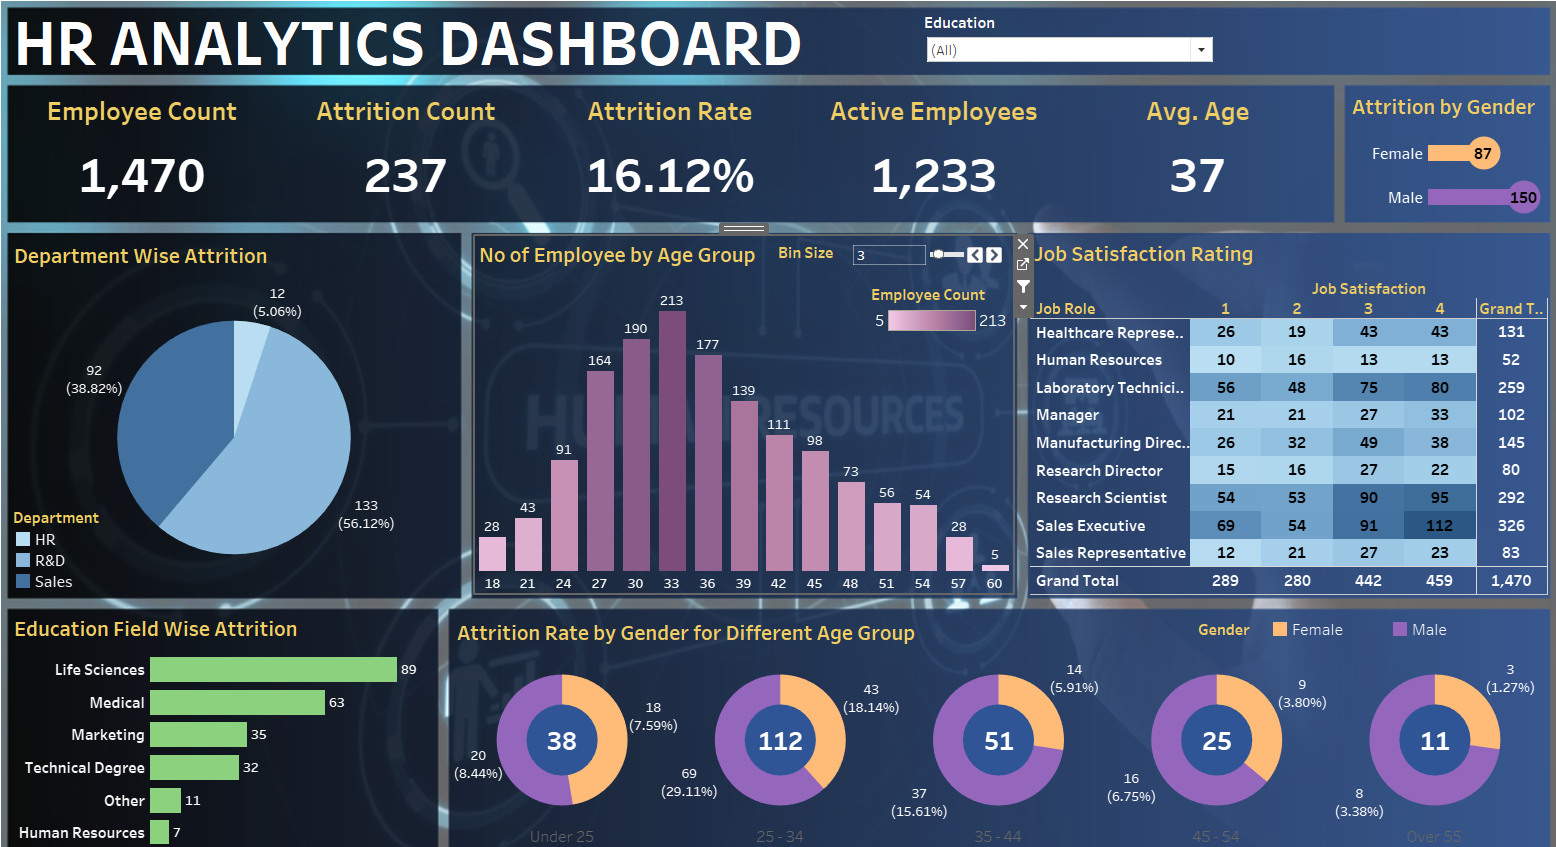

The dashboard page shown, as its layout file describes it:
{"tool":"tableau","page":{"name":"HR ANALYTICS DASHBOARD","canvas":[1580,900],"ordinal":0},"visuals":[{"type":"image","param":"D:/Practice/01. DL, ML, DS & AI/Tableau or PowerBI Projects/Tableau Projects/01.","box":[8,8,1564,884]},{"type":"text","box":[21,22,838,59]},{"type":"filter","title":"Department Wise Attrition","param":"[federated.1aj3fns0a8404212o93z91lzmpua].[none:Education:nk]","box":[935,23,292,58]},{"type":"worksheet","title":"KPI","mark":"Automatic","box":[21,98,1320,132]},{"type":"worksheet","title":"Attrition by Gender","mark":"Circle","rows":["Gender"],"cols":["Calculation_1647191624201506818","Calculation_1647191624201506818"],"box":[1359,99,198,131]},{"type":"worksheet","title":"Job Satisfaction Rating","mark":"Square","rows":["Job Role"],"cols":["Job Satisfaction"],"box":[1041,246,518,360]},{"type":"worksheet","title":"No of Employee by Age Group","mark":"Automatic","rows":["Employee Count"],"cols":["Age (bin)"],"box":[486,247,538,357]},{"type":"worksheet","title":"Department Wise Attrition","mark":"Pie","box":[21,248,448,358]},{"type":"parameter","param":"[Parameters].[Parameter 1]","box":[789,253,227,30]},{"type":"legend","title":"No of Employee by Age Group","param":"[federated.1aj3fns0a8404212o93z91lzmpua].[sum:Employee Count:qk]","box":[882,295,140,55]},{"type":"legend","title":"Department Wise Attrition","param":"[federated.1aj3fns0a8404212o93z91lzmpua].[none:Department:nk]","box":[24,518,102,85]},{"type":"worksheet","title":"Education Field Wise Attrition","mark":"Automatic","rows":["Education Field"],"cols":["Calculation_1647191624201506818"],"box":[21,621,426,239]},{"type":"worksheet","title":"Attrition Rate by Gender for Different Age Group","mark":"Pie","rows":["Calculation_1647191624227033094","Calculation_1647191624227033094"],"cols":["CF_age band"],"box":[464,625,1091,234]},{"type":"legend","title":"Attrition Rate by Gender for Different Age Group","param":"[federated.1aj3fns0a8404212o93z91lzmpua].[none:Gender:nk]","box":[1209,630,348,25]}]}

Visuals, with their boxes on the page's 1580x900 design canvas (x1, y1, x2, y2). These are canvas units, not pixel positions in the 1556x847 screenshot, which may show the page scaled, cropped or inside an application window:
image: box=[8, 8, 1572, 892]
text: box=[21, 22, 859, 81]
"Department Wise Attrition" filter: box=[935, 23, 1227, 81]
"KPI" worksheet: box=[21, 98, 1341, 230]
"Attrition by Gender" worksheet (Circle marks): box=[1359, 99, 1557, 230]
"Job Satisfaction Rating" worksheet (Square marks): box=[1041, 246, 1559, 606]
"No of Employee by Age Group" worksheet: box=[486, 247, 1024, 604]
"Department Wise Attrition" worksheet (Pie marks): box=[21, 248, 469, 606]
parameter: box=[789, 253, 1016, 283]
"No of Employee by Age Group" legend: box=[882, 295, 1022, 350]
"Department Wise Attrition" legend: box=[24, 518, 126, 603]
"Education Field Wise Attrition" worksheet: box=[21, 621, 447, 860]
"Attrition Rate by Gender for Different Age Group" worksheet (Pie marks): box=[464, 625, 1555, 859]
"Attrition Rate by Gender for Different Age Group" legend: box=[1209, 630, 1557, 655]
